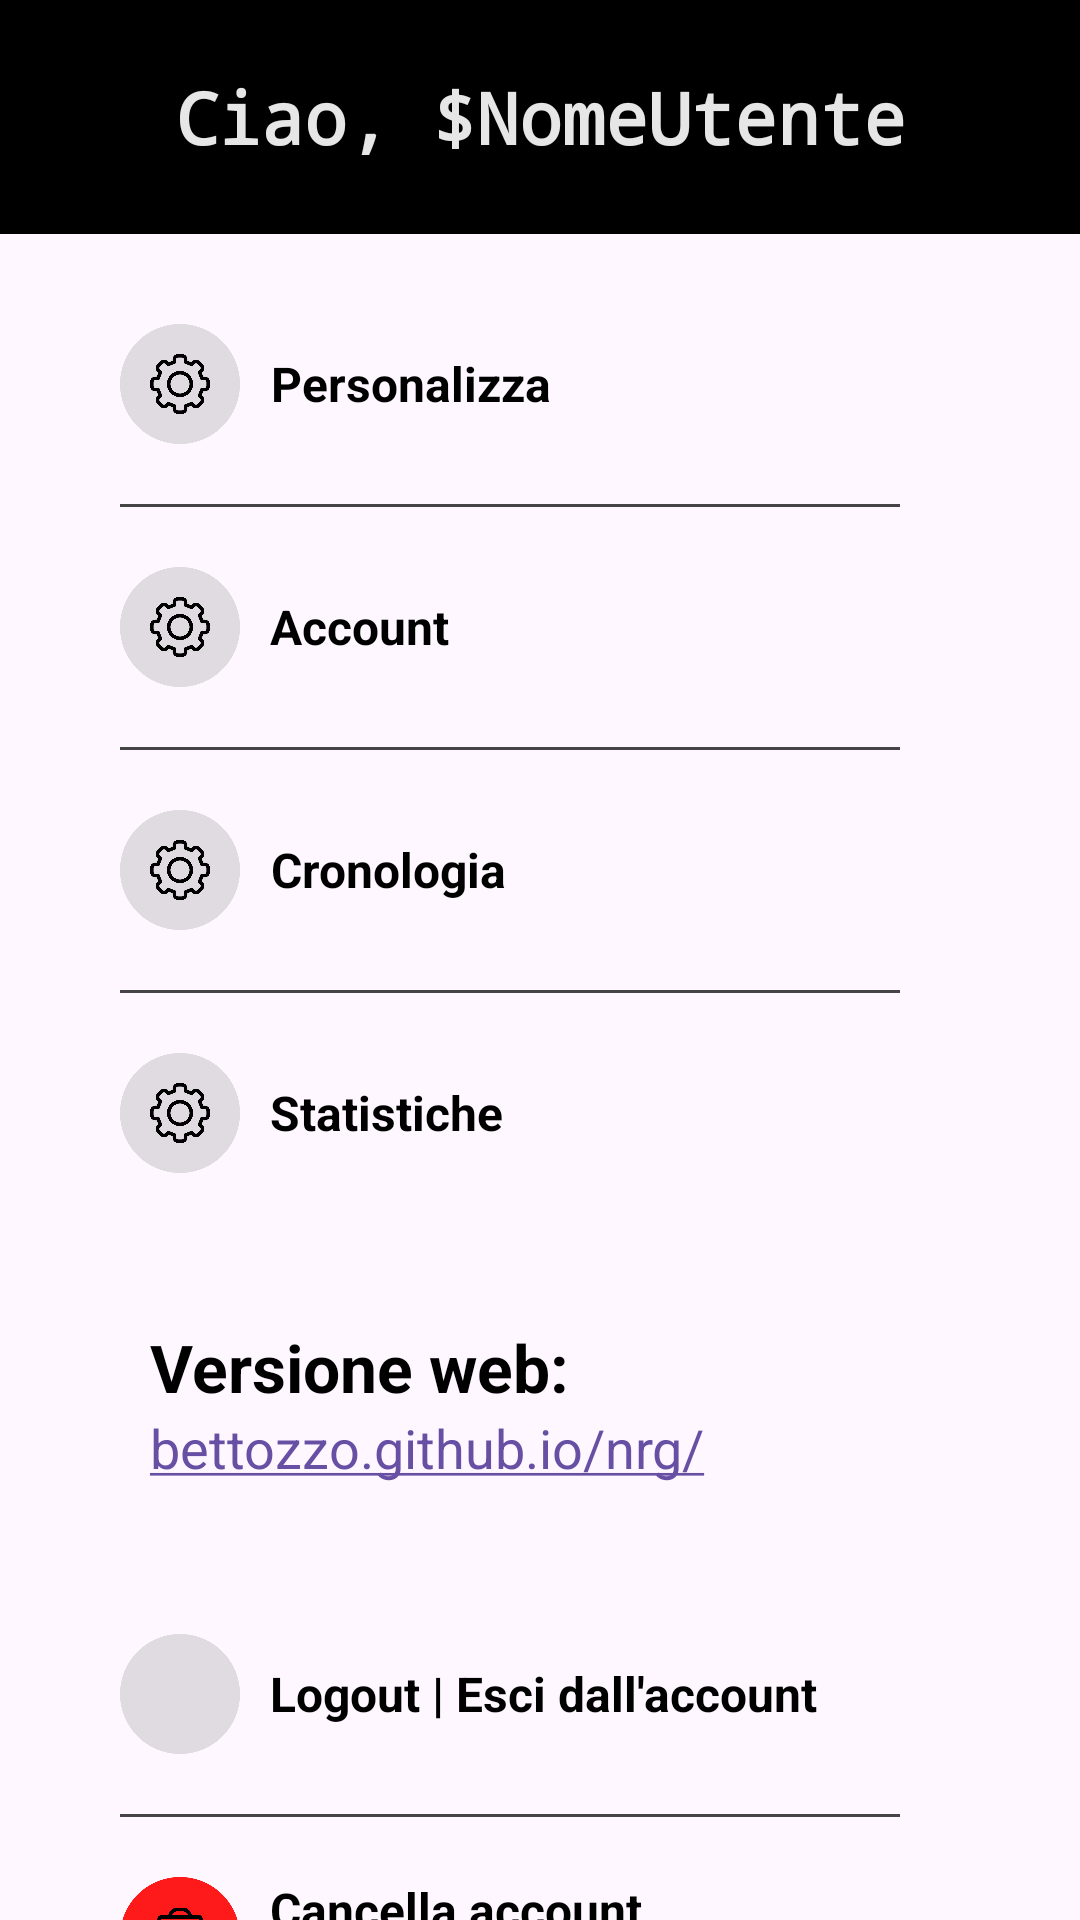

Icons on this 1080 x 1920 Android screen, each with the point to tap as (x,y):
settings: (180,384), (180,627), (180,870), (180,1113)
